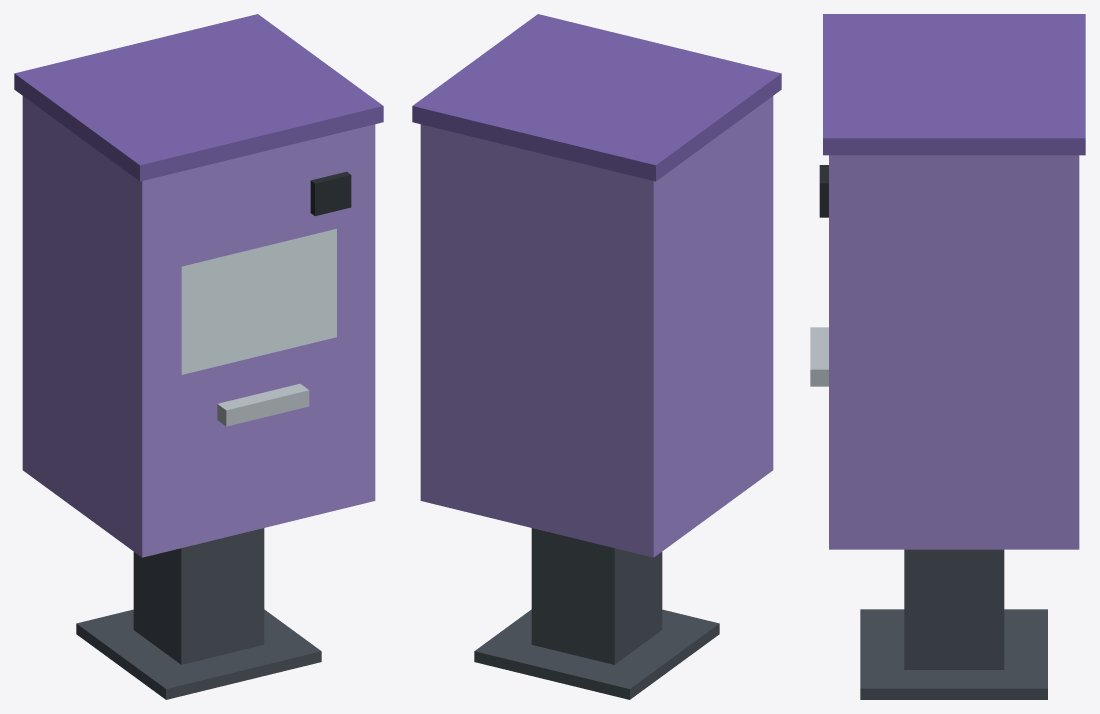
File: SM_NewsBox.obj
3 renders of one model, left to right at view 1: azimuth 30°, elevation 25°; view 2: azimuth 150°, elevation 25°; view 3: azimuth 270°, elevation 25°, orthographic. The views are drawn at different scales.
Visible parts, largest first — view 1: NewsBox; view 2: NewsBox; view 3: NewsBox.
Boxes of the visible parts, x1,y1,x2,y2 form: NewsBox: (14,14,383,699); NewsBox: (412,14,781,699); NewsBox: (810,14,1085,699).
Size of the model in its own units: 0.47 by 1.03 by 0.44.
